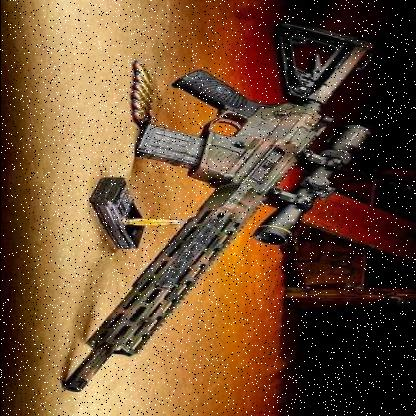rifle: (65, 13, 395, 365)
